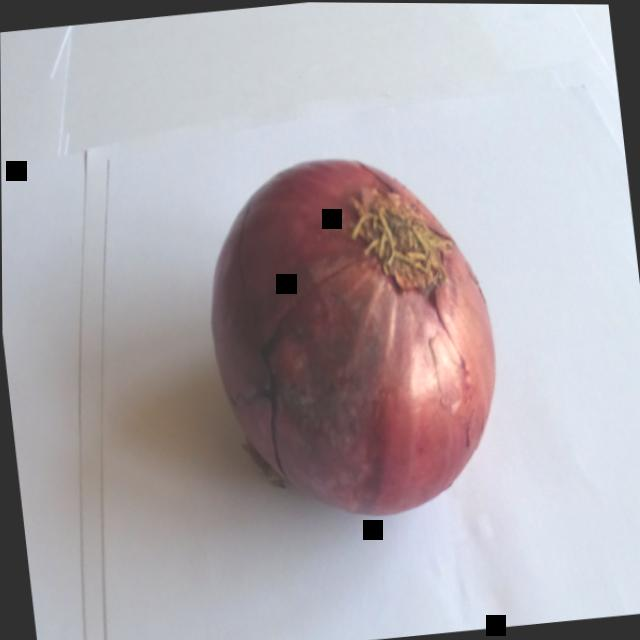Onion: (188, 129, 527, 563)
